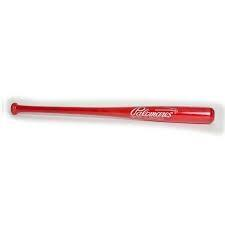Baseball-Bat: (11, 105, 214, 124)
